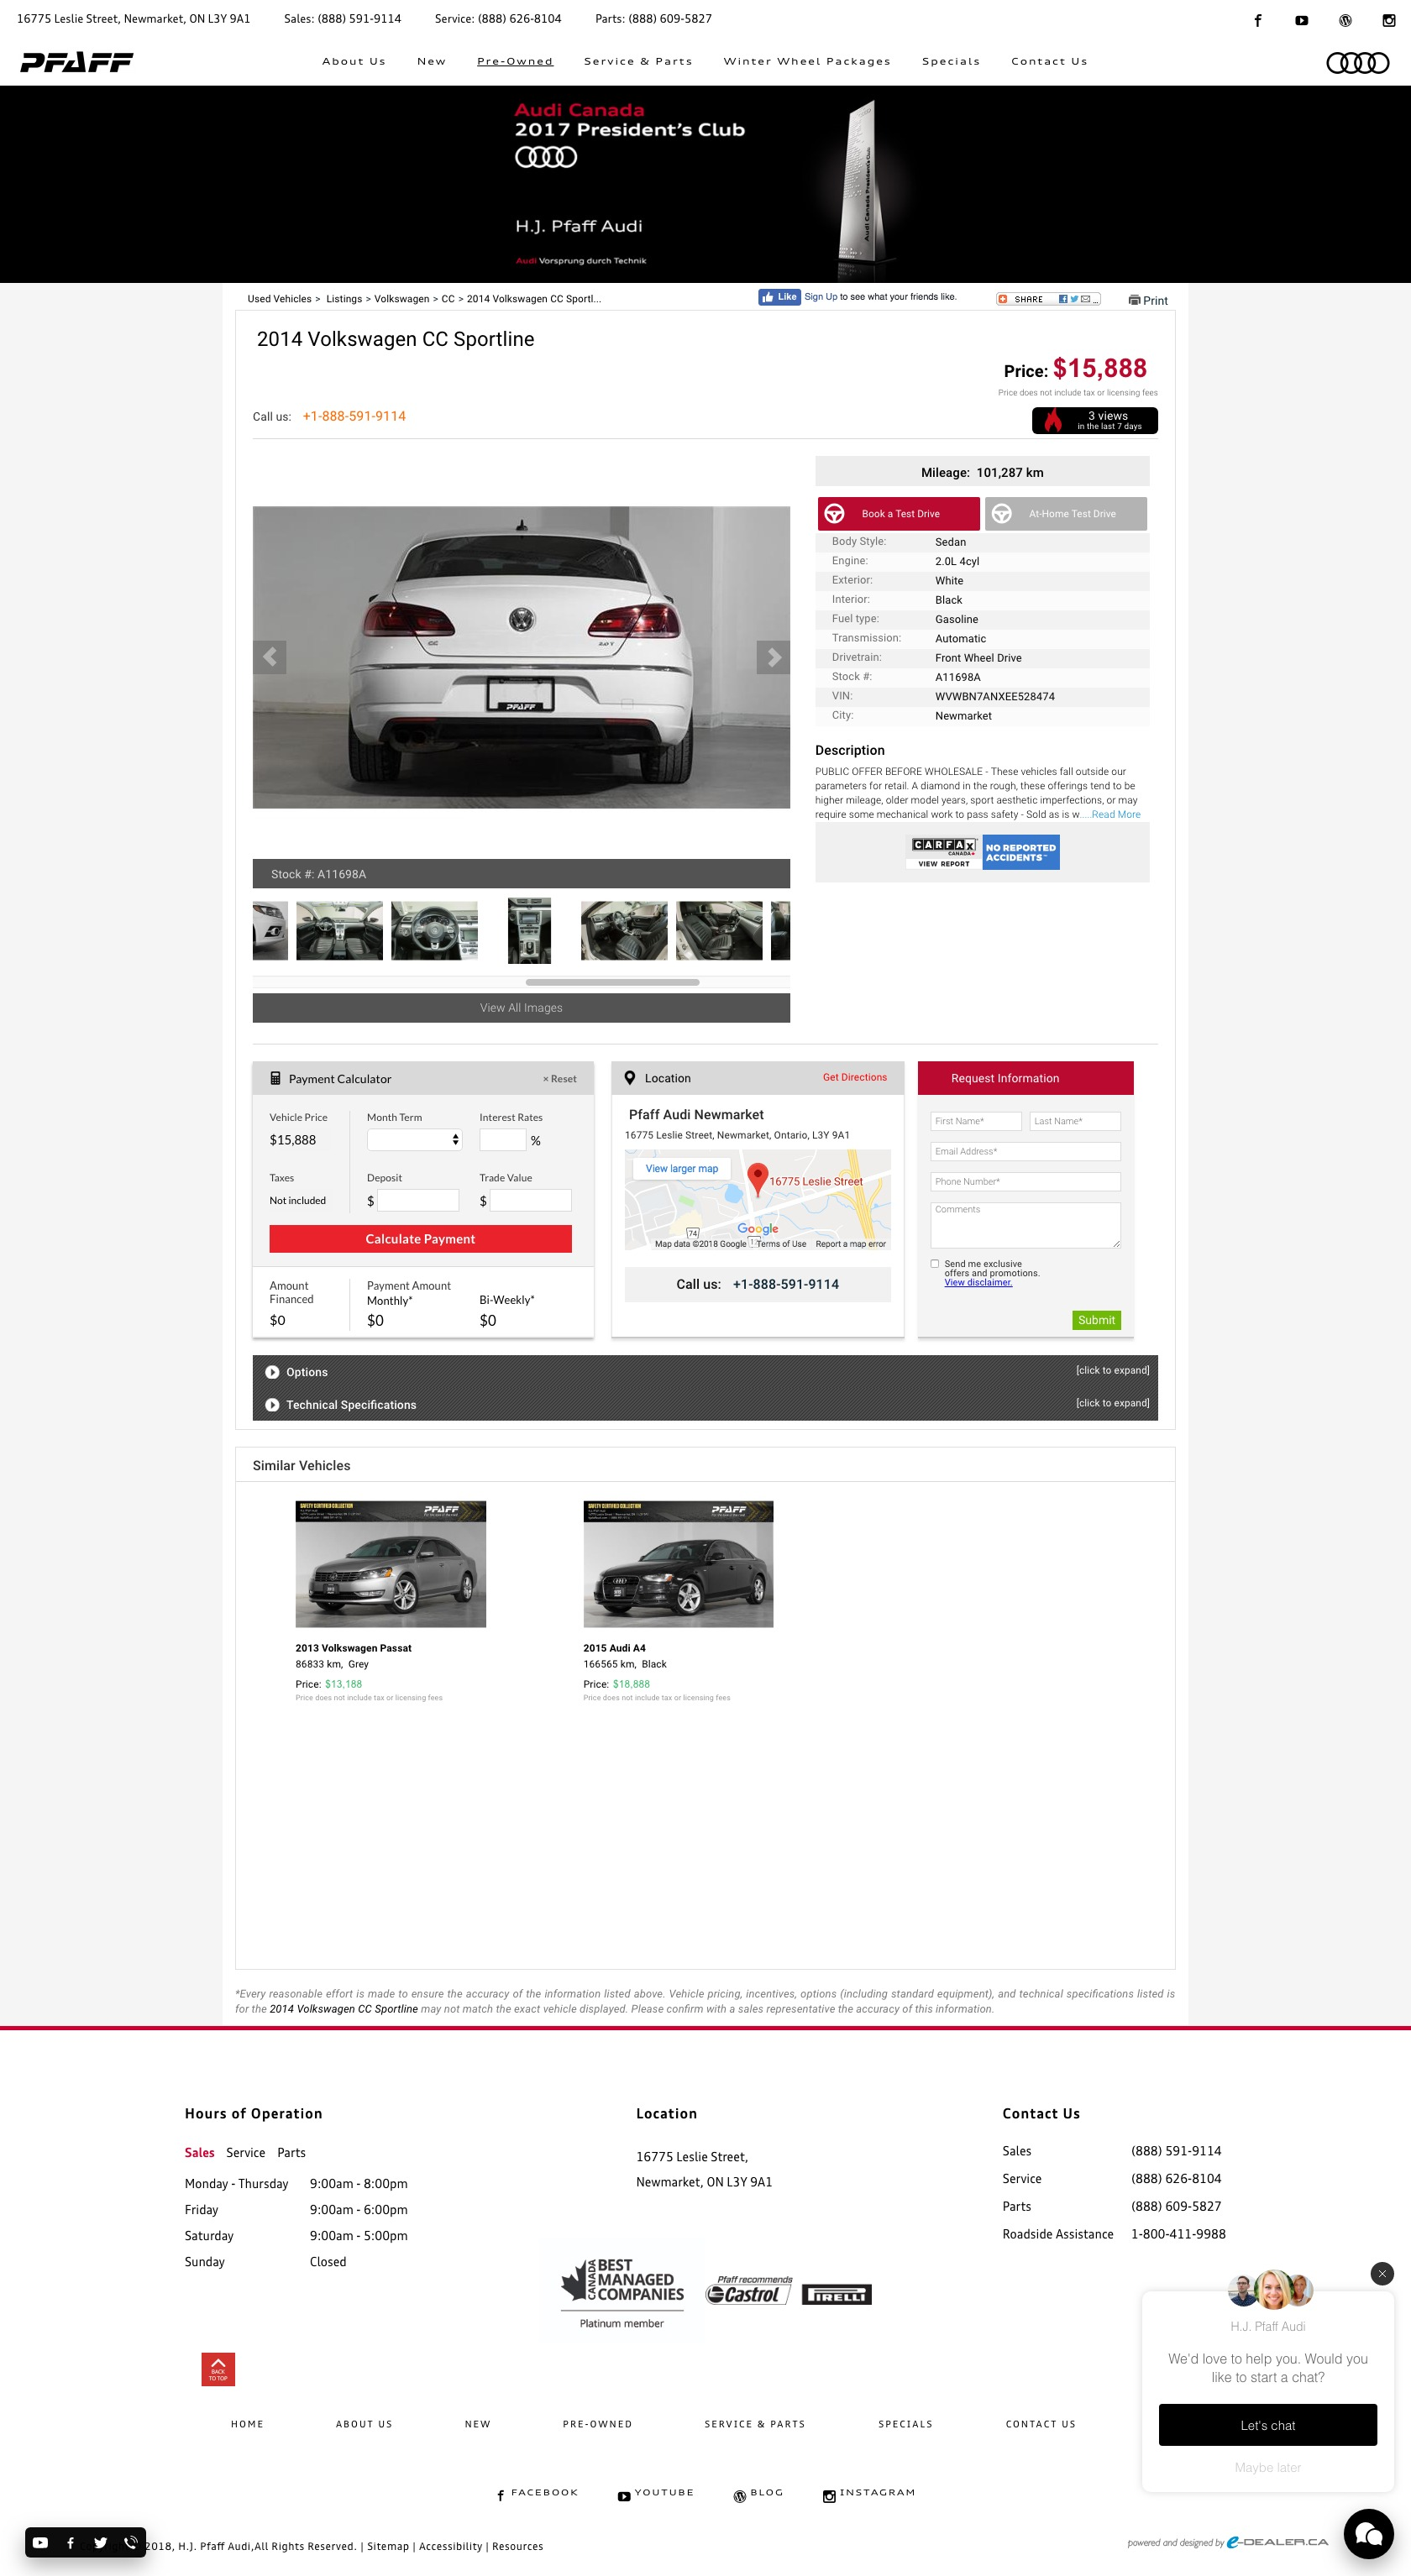car: (768, 648, 782, 669)
